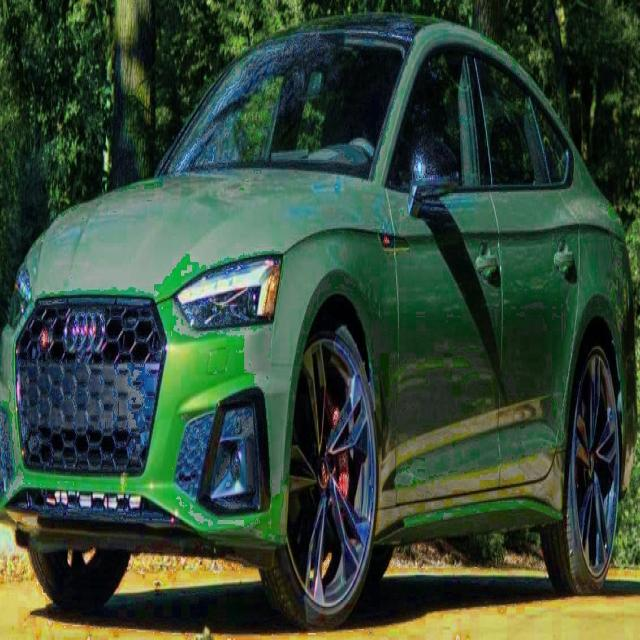green: (0, 12, 637, 636)
